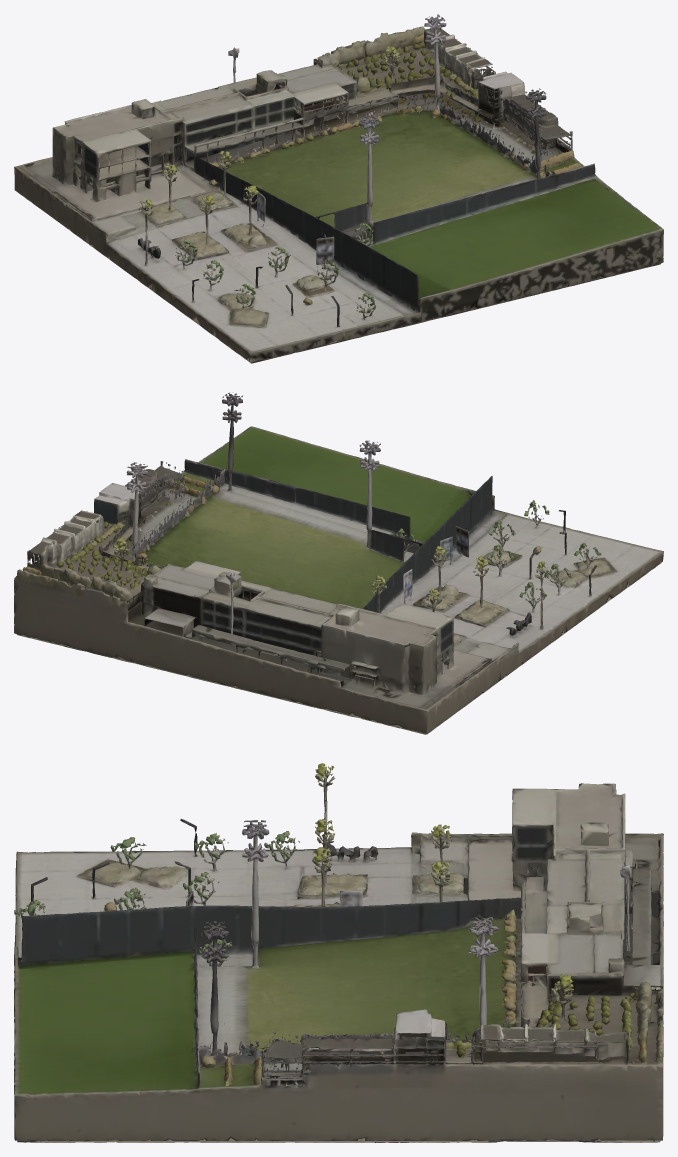
File: el-hadaf-training-center-2.glb
3 views of the same model, one above another, from view 1: azimuth 30°, elevation 25°; view 2: azimuth 150°, elevation 25°; view 3: azimuth 270°, elevation 25° (orthographic). The views are drawn at different scales.
Size of the model in its own units: 0.9962 by 0.3115 by 0.9904.
1 material, 1 textured.
